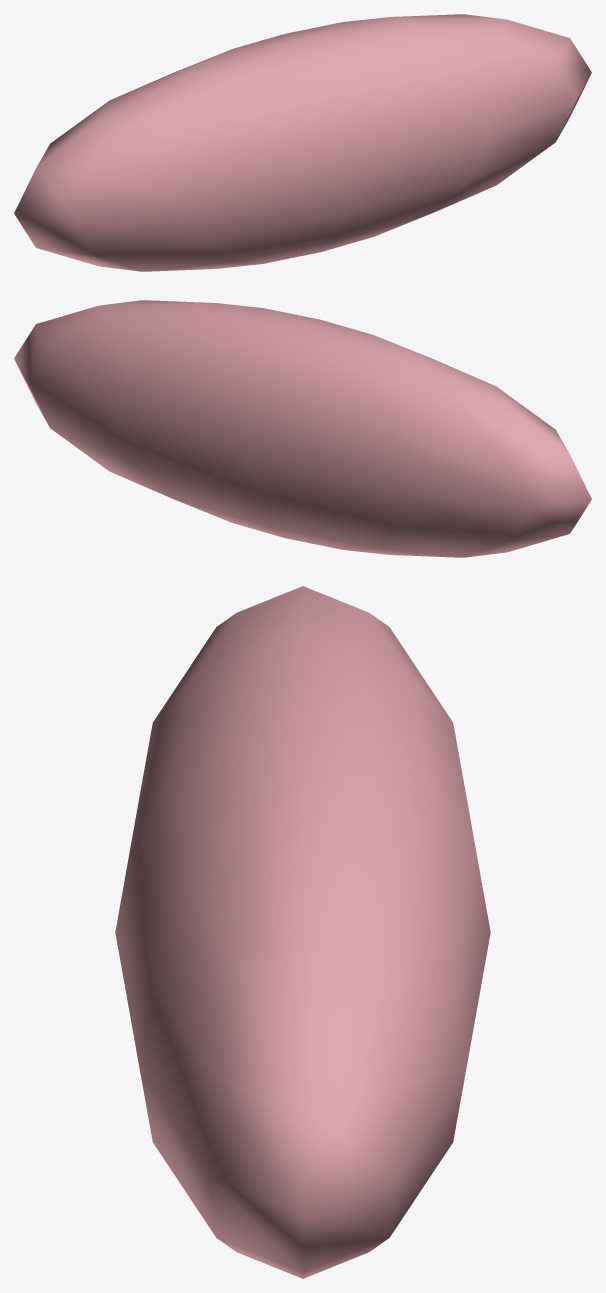
Rendered from mouths-chibi-01.glb.
3 renders of one model, top to bottom at view 1: azimuth 30°, elevation 25°; view 2: azimuth 150°, elevation 25°; view 3: azimuth 270°, elevation 25°, orthographic. The views are drawn at different scales.
Parts seen in each view (by area): view 1: part_0; view 2: part_0; view 3: part_0.
Part boxes in pixels (left/top/right/bottom): part_0: left=14, top=14, right=591, bottom=271; part_0: left=14, top=300, right=591, bottom=557; part_0: left=115, top=586, right=490, bottom=1278.
Size of the model in its own units: 0.32 by 0.11 by 0.09.
